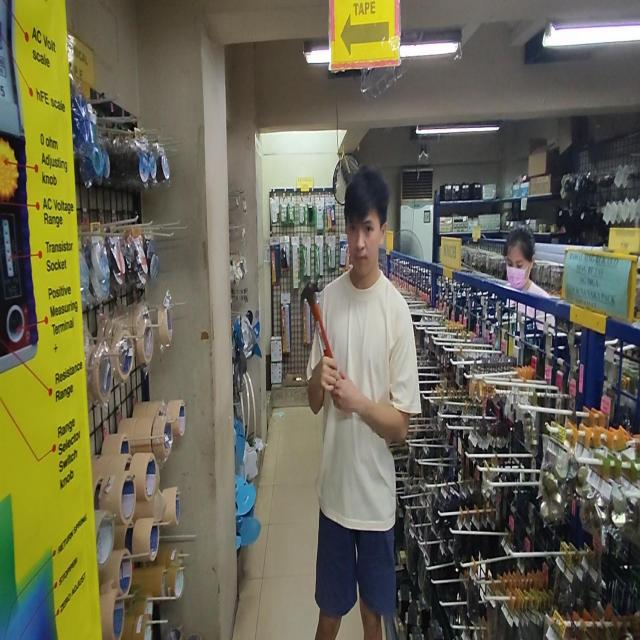hammer: (300, 278, 334, 362)
